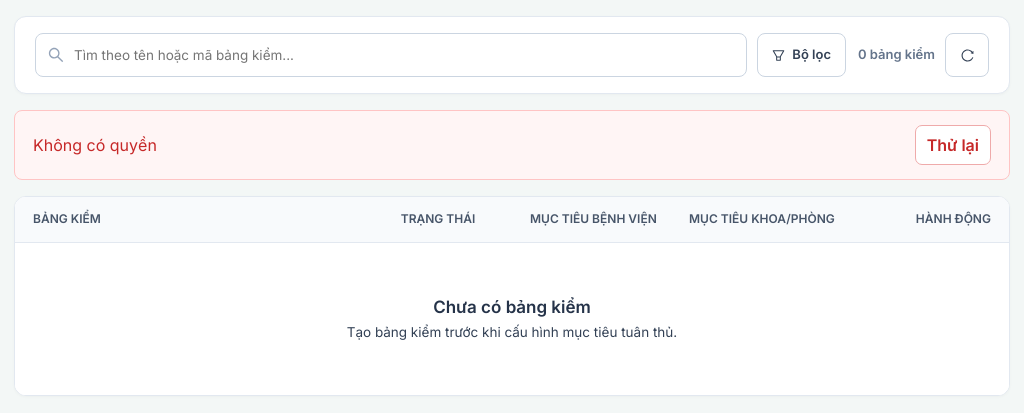
Test: ComplianceTargetSettingsPage - danh sách bảng kiểm › hiện lỗi kèm nút thử lại khi tải danh sách thất bại
Expected: the text "Không có quyền" is shown, [33,135,157,155]
What coordinates should you click on to do the following:
click the button "Thử lại"
I would click on:
 (953, 145)
Its box is [915,125,991,165].
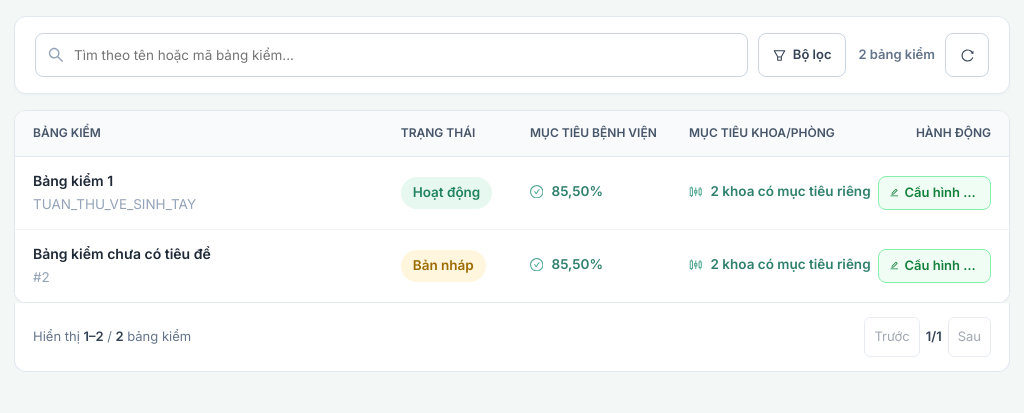
Now the text "Bảng kiểm 1" is shown, box [33,172,113,189]
